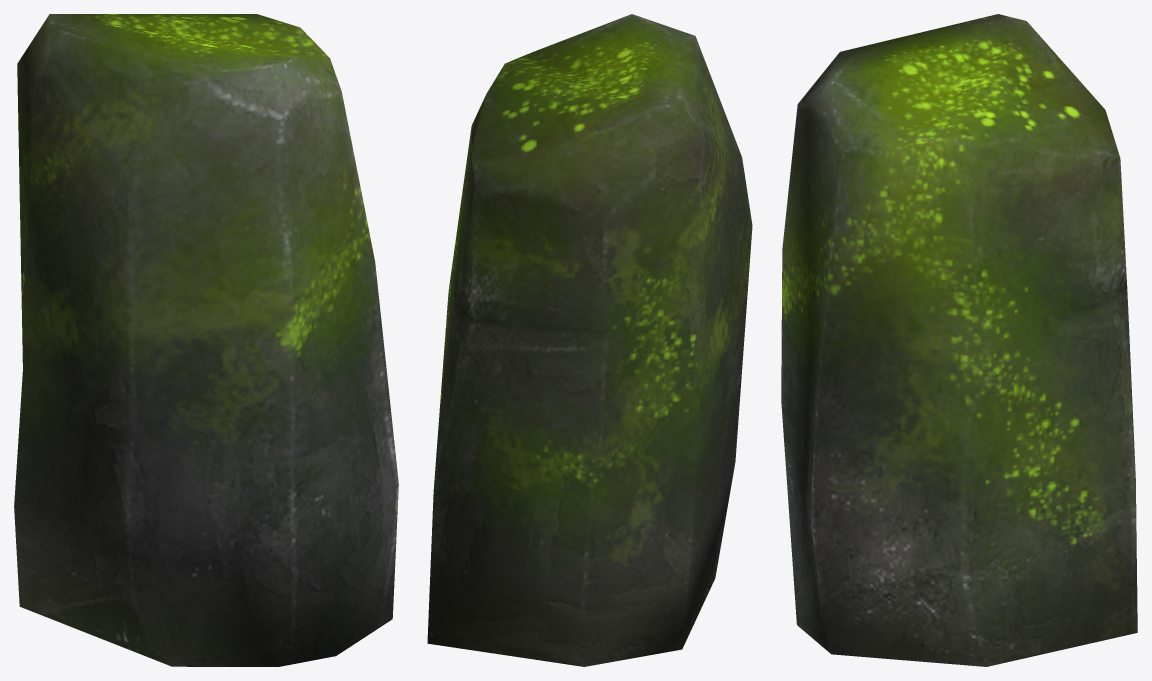
The model's file is rock1.fbx.
3 views of the same model, side by side, from view 1: azimuth 30°, elevation 25°; view 2: azimuth 150°, elevation 25°; view 3: azimuth 270°, elevation 25° (orthographic). The views are drawn at different scales.
Parts seen in each view (by area): view 1: rocks1; view 2: rocks1; view 3: rocks1.
Boxes of the visible parts, x1,y1,x2,y2 form: rocks1: (14,14,398,666); rocks1: (427,14,752,666); rocks1: (781,14,1137,666).
Size of the model in its own units: 241 by 451 by 273.
